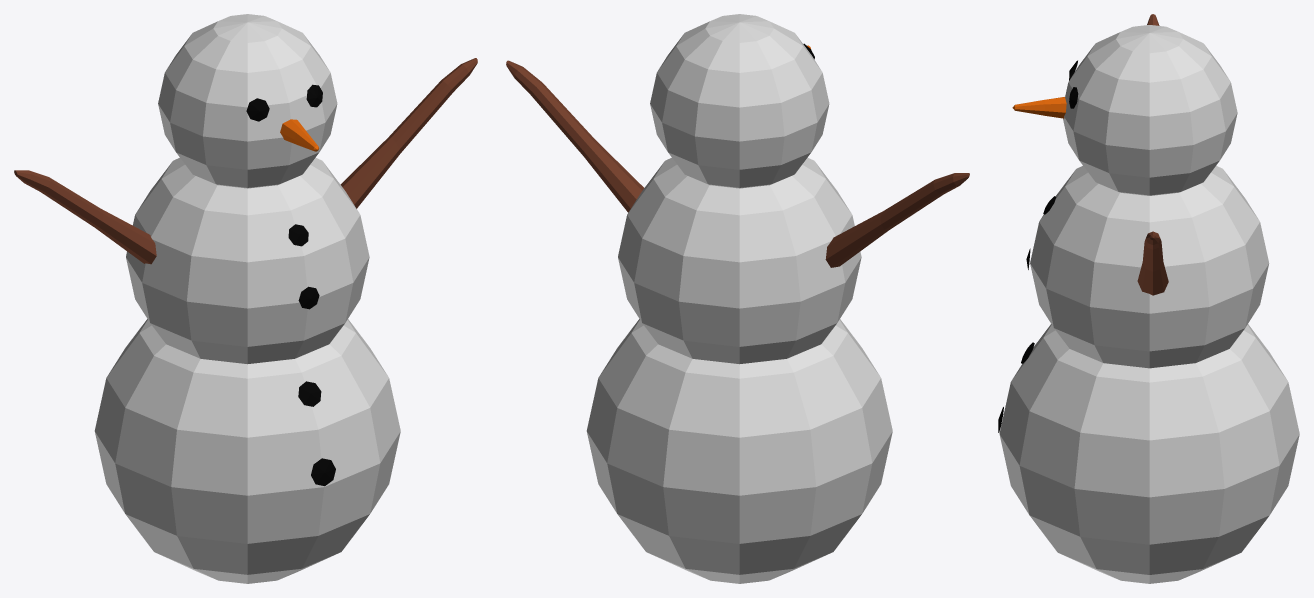
Rendered from Snowman.fbx.
The picture shows the model from 3 angles, left to right: view 1: azimuth 30°, elevation 25°; view 2: azimuth 150°, elevation 25°; view 3: azimuth 270°, elevation 25°; orthographic projection.
Visible parts, largest first — view 1: Snowman; view 2: Snowman; view 3: Snowman.
Boxes of the visible parts, x1,y1,x2,y2 form: Snowman: (14, 14, 477, 583); Snowman: (506, 14, 969, 583); Snowman: (998, 14, 1299, 583).
Bounding box in the file's own units: 349 × 395 × 201.
